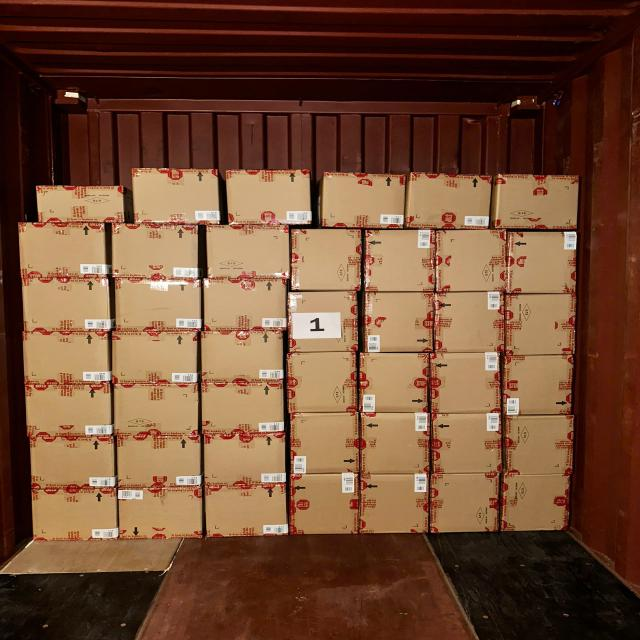Carton: (131, 166, 223, 227), (17, 220, 110, 279), (18, 276, 113, 333), (23, 382, 116, 439), (25, 433, 116, 490), (20, 331, 114, 386), (503, 290, 579, 358), (28, 487, 120, 543), (284, 290, 361, 356), (362, 228, 439, 294), (433, 228, 510, 294), (200, 432, 290, 488), (111, 226, 200, 281), (503, 229, 578, 294), (428, 352, 504, 416), (202, 484, 290, 539), (492, 176, 578, 232), (361, 290, 436, 354), (111, 330, 198, 385), (319, 175, 406, 230), (404, 176, 491, 231), (228, 174, 315, 229), (116, 486, 204, 540), (432, 291, 506, 355), (502, 353, 574, 418), (358, 351, 432, 414), (206, 228, 292, 282), (292, 230, 364, 294), (286, 350, 359, 413), (365, 232, 436, 296), (113, 384, 200, 436), (292, 472, 362, 536), (116, 278, 203, 329), (357, 475, 429, 536), (116, 486, 202, 537), (506, 415, 579, 475), (200, 332, 284, 384), (204, 485, 288, 537), (432, 471, 502, 533), (431, 411, 501, 473), (362, 412, 432, 474), (116, 436, 202, 486), (203, 278, 287, 329), (200, 384, 284, 435), (292, 410, 361, 472), (504, 474, 575, 534), (366, 294, 434, 356), (36, 188, 126, 225)
